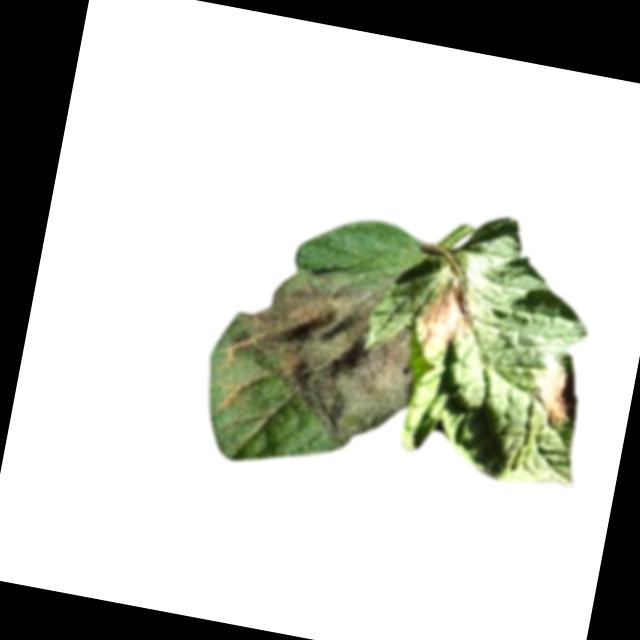Late_blight: (210, 244, 435, 460), (415, 280, 482, 359), (529, 362, 585, 433)
